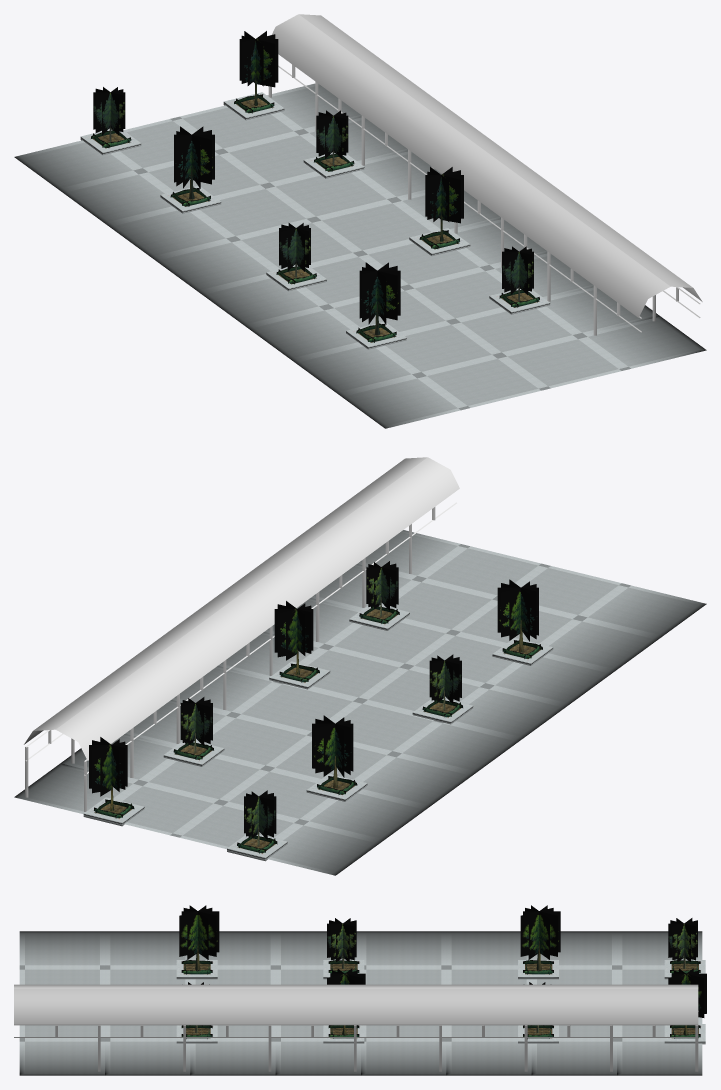
Rendered from KOMIKE_02.glb.
3 views of the same model, one above another, from view 1: azimuth 30°, elevation 25°; view 2: azimuth 150°, elevation 25°; view 3: azimuth 270°, elevation 25° (orthographic). The views are drawn at different scales.
Visible parts, largest first — view 1: st2; view 2: st2; view 3: st2.
Part boxes in pixels (box(x1,y1,x2,y2)): st2: box(14, 14, 706, 428); st2: box(14, 457, 706, 875); st2: box(14, 905, 706, 1075).
Bounding box in the file's own units: 100 × 22.71 × 203.
Materials: 7 (6 with a texture image).
